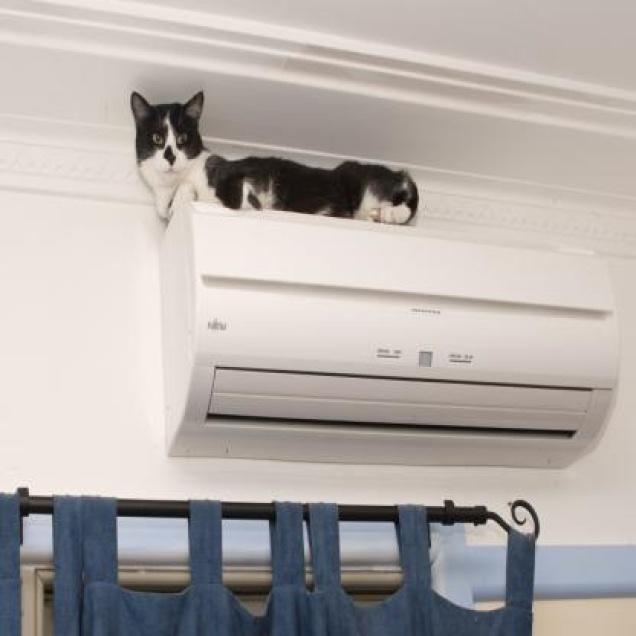AC: (157, 199, 622, 469)
